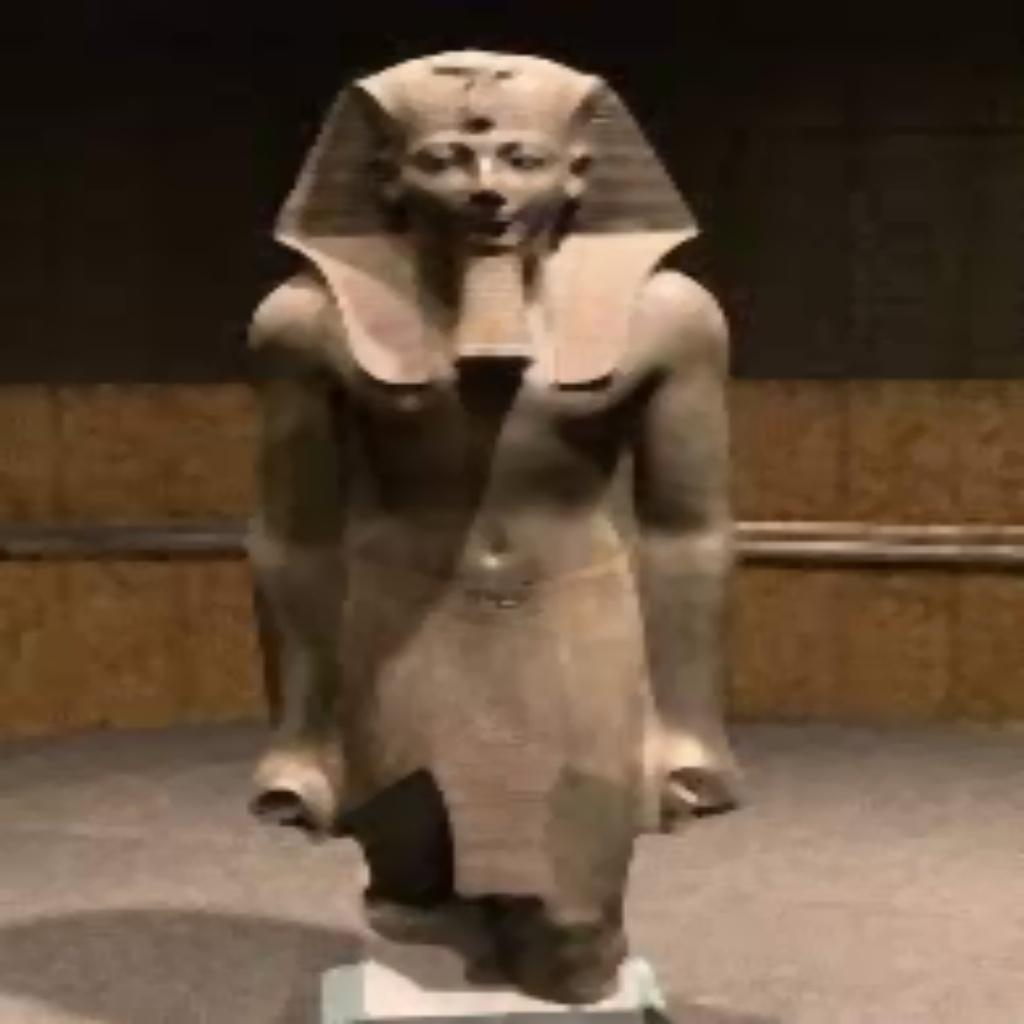King Thutmose III: (232, 44, 755, 1004)
